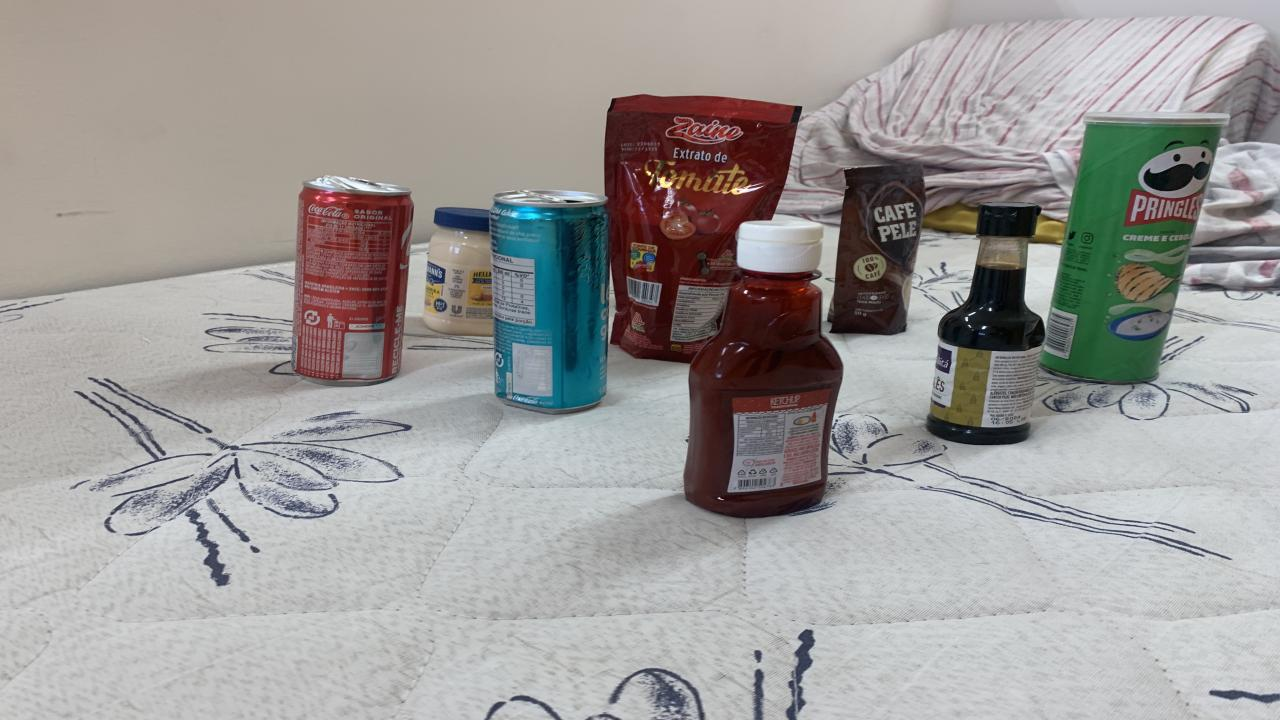Coffee-Pantry_Items: (830, 165, 925, 334)
Coke-Drinks: (292, 176, 412, 386)
English_Sauce-Pantry_Items: (928, 202, 1045, 444)
Ketchup-Pantry_Items: (685, 219, 842, 518)
Mayonnaise-Pantry_Items: (422, 206, 492, 336)
Pringles-Snacks: (1040, 112, 1230, 382)
Tea-Drinks: (490, 189, 608, 412)
Tomato_Sauce-Pantry_Items: (605, 96, 800, 362)
